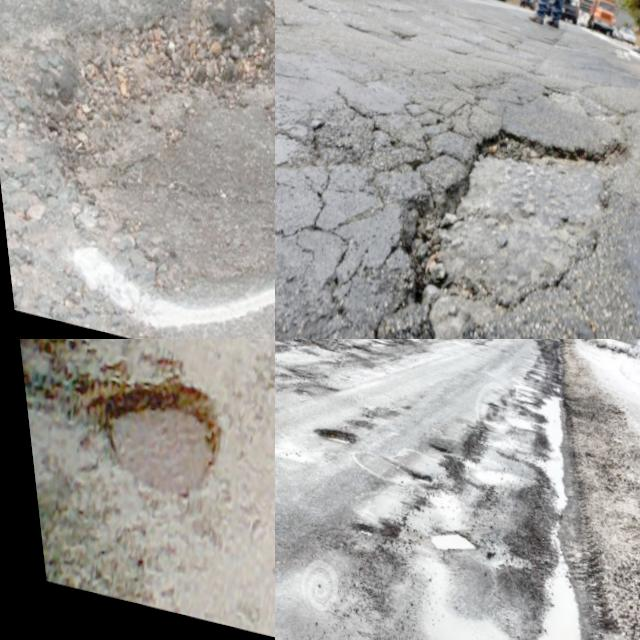Potholes: (320, 48, 640, 339), (0, 0, 275, 327), (275, 453, 640, 640), (7, 339, 273, 573), (377, 339, 616, 560), (291, 370, 416, 488), (275, 339, 423, 410), (361, 339, 502, 373)
